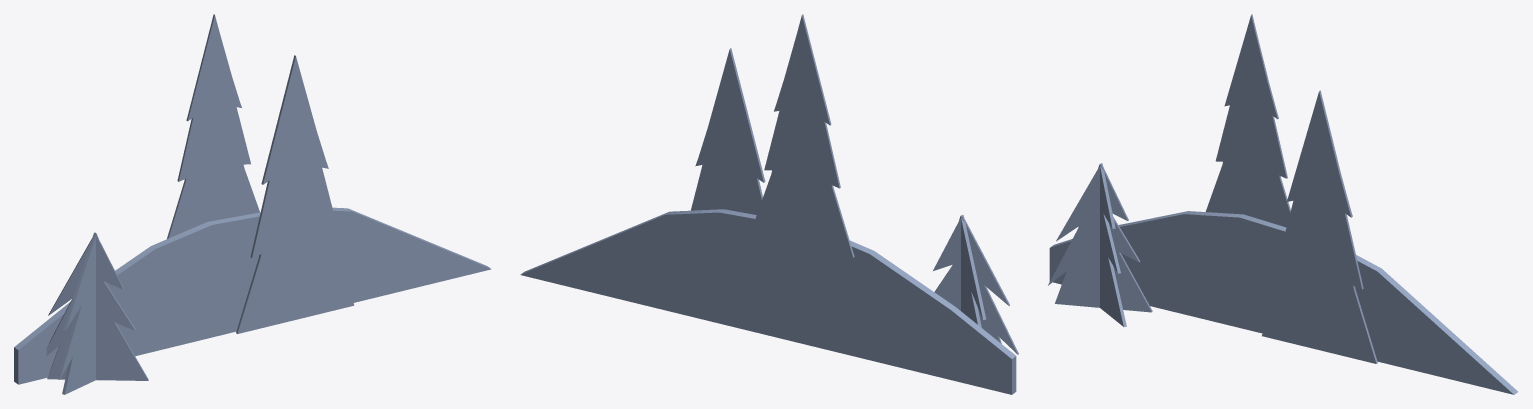
Rendered from frame_0033.glb.
3 renders of one model, left to right at view 1: azimuth 30°, elevation 25°; view 2: azimuth 150°, elevation 25°; view 3: azimuth 330°, elevation 25°, orthographic. The views are drawn at different scales.
Visible parts, largest first — view 1: export_trees_001.002; view 2: export_trees_001.002; view 3: export_trees_001.002.
Boxes of the visible parts, x1,y1,x2,y2 form: export_trees_001.002: [14, 14, 491, 394]; export_trees_001.002: [520, 14, 1018, 394]; export_trees_001.002: [1048, 14, 1517, 394].
Bounding box in the file's own units: 0.4118 × 0.2652 × 0.0496.
